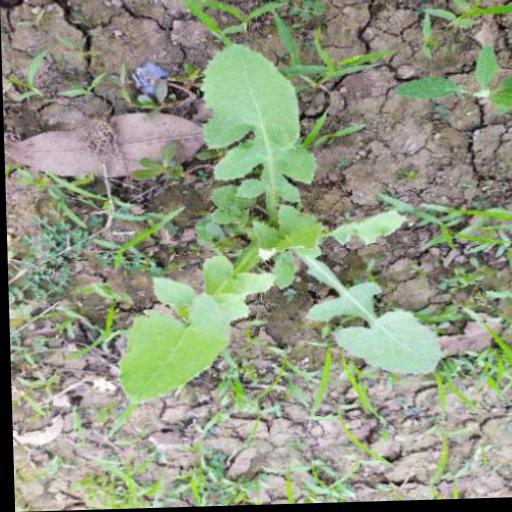weed: (102, 51, 451, 400), (75, 436, 355, 510), (8, 200, 135, 328)
